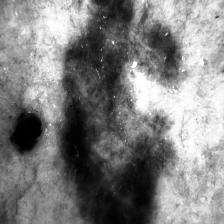Benign Marking or Mole: (61, 0, 180, 224)
